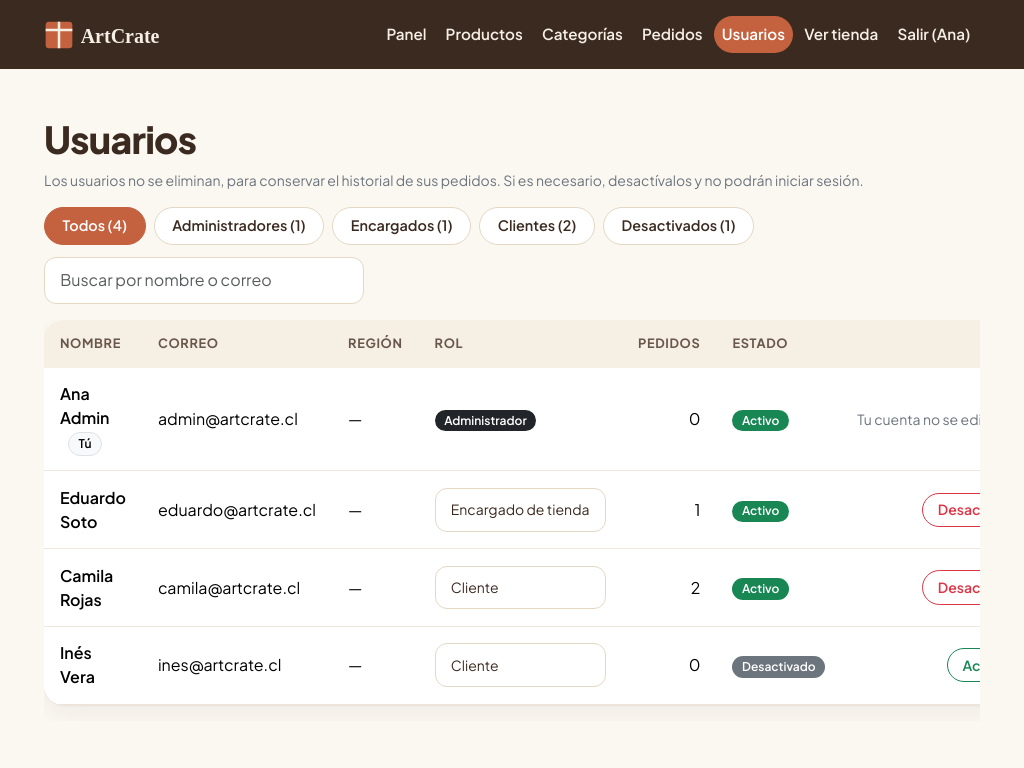
Test: Administración de usuarios › cambiar el rol › si el administrador se arrepiente ("Volver") no se cambia nada
The image size is (1024, 768).
Expected: the row "Camila Rojas camila@artcrate.cl — 2 Activo Desactivar" is shown, [44,549,980,626]
Select "Administrador" in the dropdown named "Rol de Camila Rojas" at (520, 588), box [435,566,606,609]
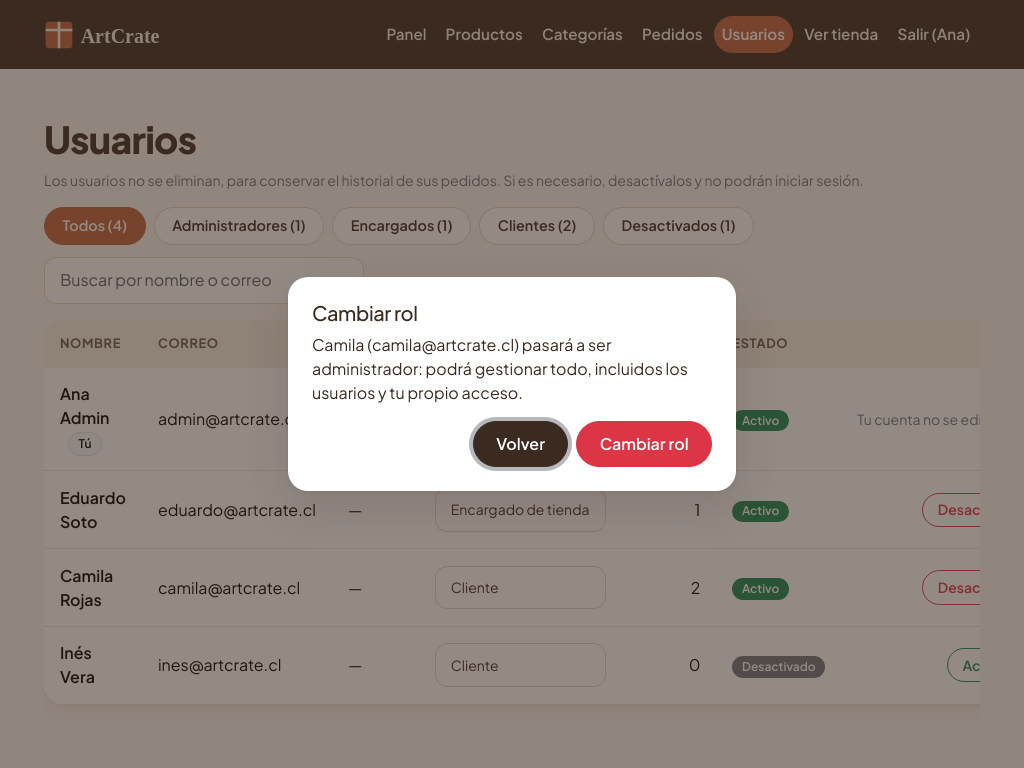
Click the button "Volver" at (521, 444), box [473,421,568,467]
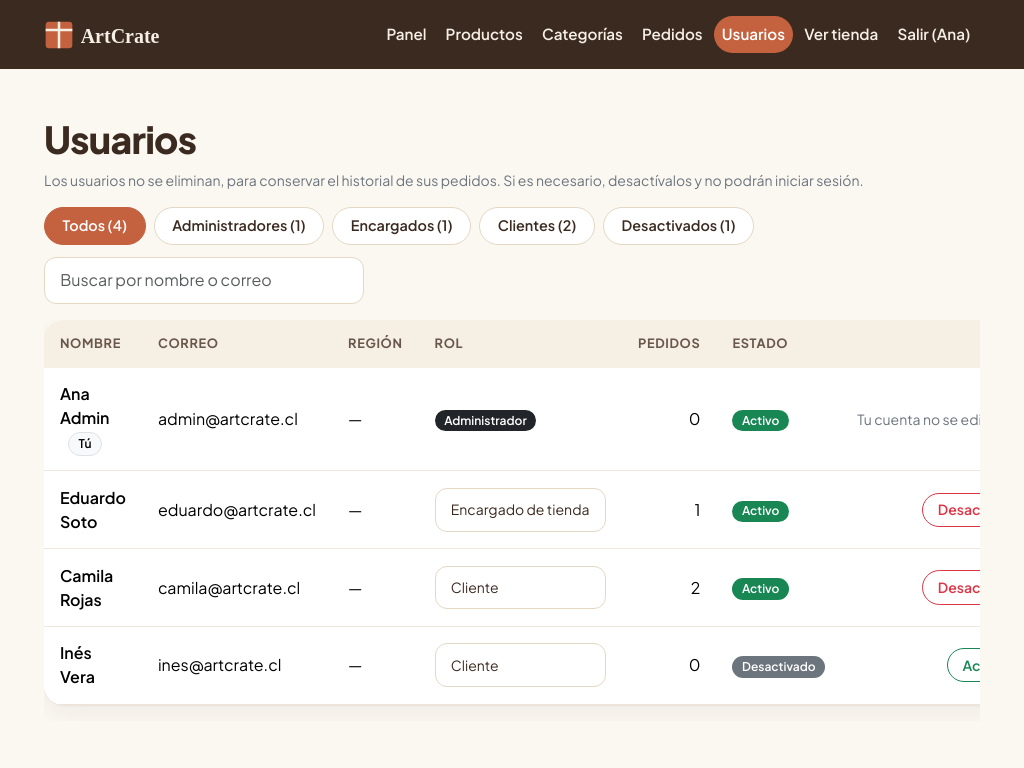
Expected: the dialog is gone
